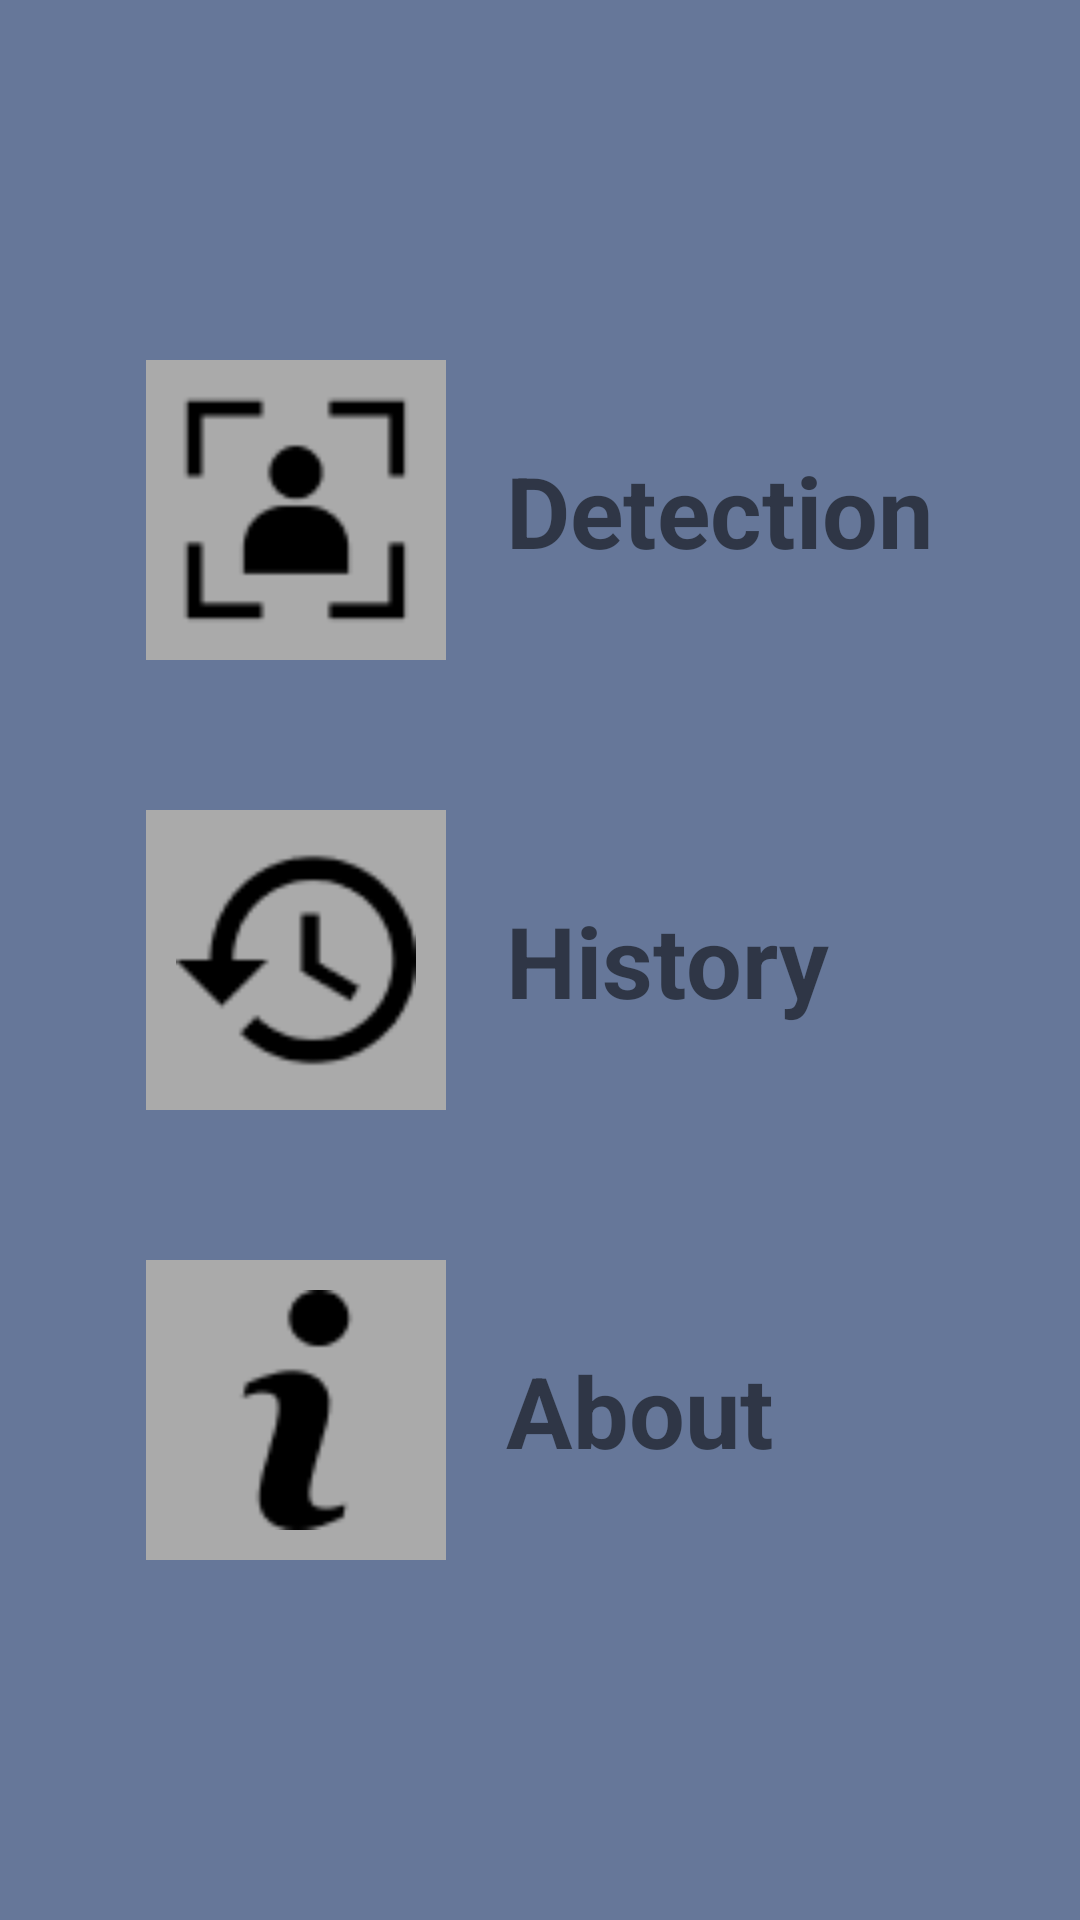

Point at icon controls on the screen. Image size 1080 x 1920, points as (x=x, y=y).
info: (x=296, y=1410)
